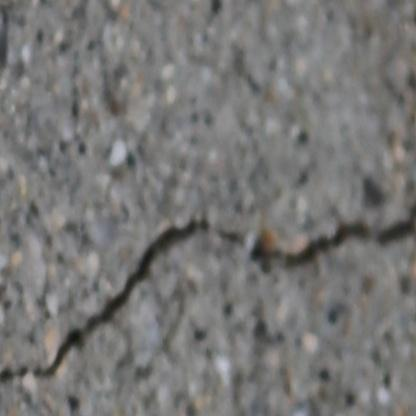Cracks: (0, 215, 214, 390), (215, 123, 416, 282)
